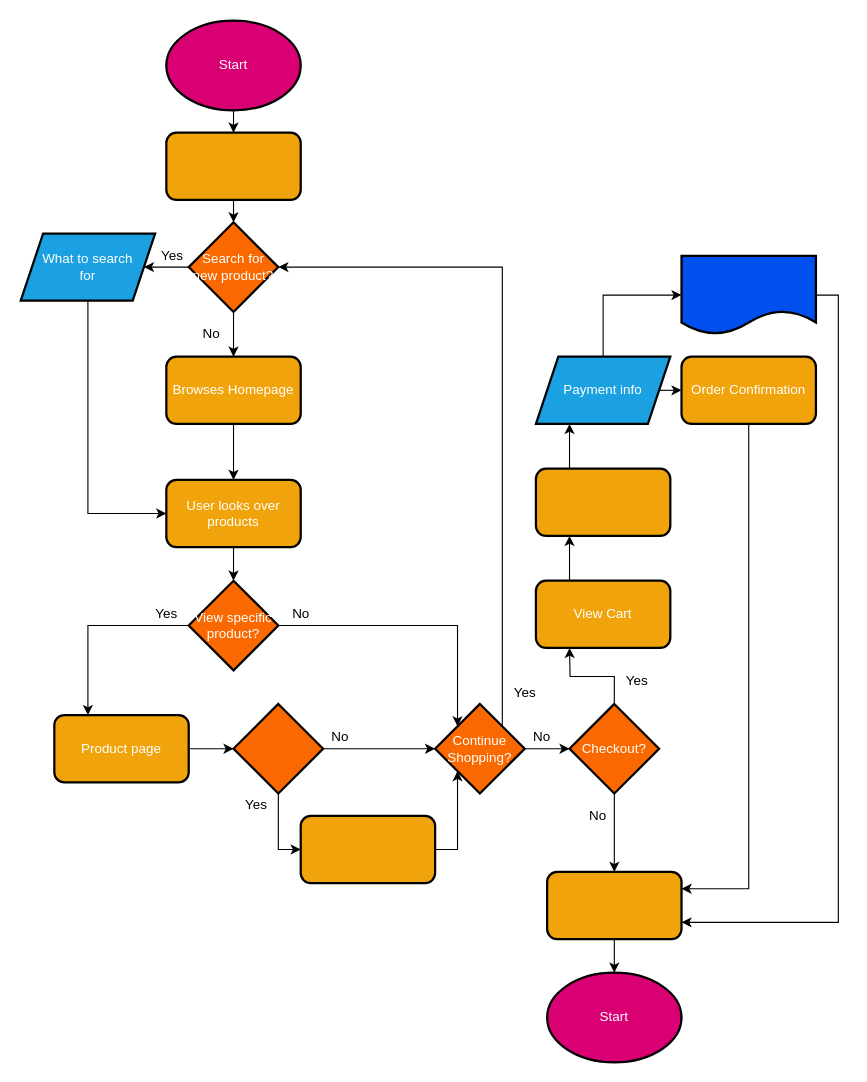
Image size: 867x1082. Some labels were removed from this diagram. Each missing label, with the centre of its shape:
"Add item to cart?" belongs at point (278, 748).
"Add to cart confirmation" belongs at point (367, 849).
"Email Confirmation" belongs at point (748, 294).
"User Enters Website" belongs at point (233, 165).
"User Leaves Website" belongs at point (613, 905).
"View Payment" belongs at point (602, 501).
